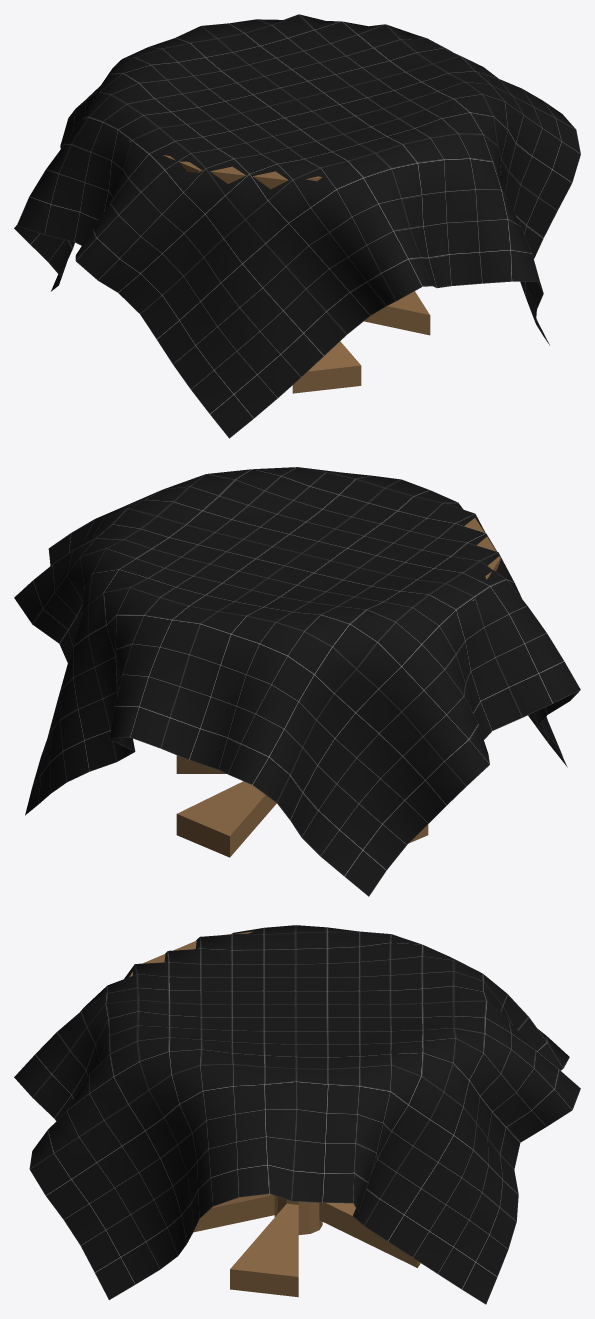
The model's file is table with cloth COMPLETE.fbx.
The picture shows the model from 3 angles, top to bottom: view 1: azimuth 30°, elevation 25°; view 2: azimuth 150°, elevation 25°; view 3: azimuth 270°, elevation 25°; orthographic projection. The views are drawn at different scales.
Parts seen in each view (by area): view 1: polySurface2, pCylinder1; view 2: polySurface2, pCylinder1; view 3: polySurface2, pCylinder1.
Boxes of the visible parts, box(x1,y1,x2,y2) form: polySurface2: box(14, 14, 580, 438); pCylinder1: box(129, 140, 430, 393); polySurface2: box(14, 467, 580, 896); pCylinder1: box(176, 518, 500, 857); polySurface2: box(14, 925, 580, 1304); pCylinder1: box(129, 931, 420, 1297).
Bounding box in the file's own units: 4.72 × 2.23 × 4.68.
